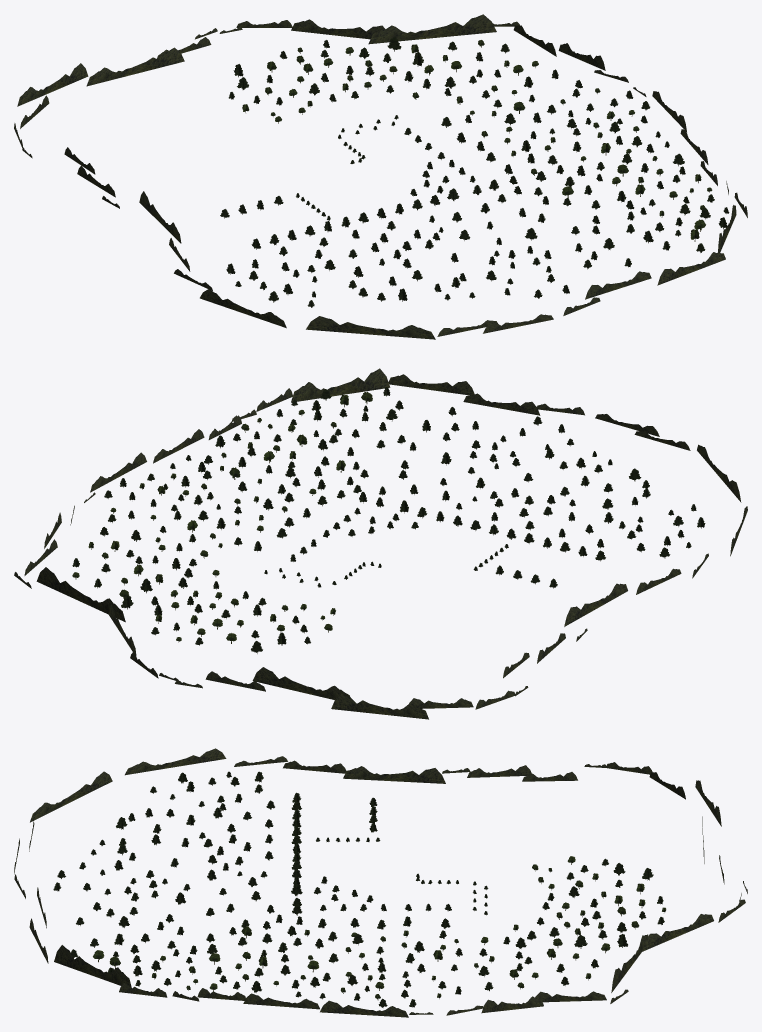
Rendered from tokyo_track_trees.dae.
3 renders of one model, top to bottom at view 1: azimuth 30°, elevation 25°; view 2: azimuth 150°, elevation 25°; view 3: azimuth 270°, elevation 25°, orthographic. The views are drawn at different scales.
Visible parts, largest first — view 1: tree_wall, tree_02, tree_01; view 2: tree_wall, tree_02, tree_01; view 3: tree_02, tree_wall, tree_01.
Part boxes in pixels (<box>): tree_wall: <box>14,14,747,339</box>; tree_02: <box>220,37,729,307</box>; tree_01: <box>242,40,712,241</box>; tree_wall: <box>14,368,747,719</box>; tree_02: <box>72,387,705,653</box>; tree_01: <box>72,391,372,643</box>; tree_02: <box>53,771,664,1007</box>; tree_wall: <box>14,748,747,1017</box>; tree_01: <box>93,856,666,1000</box>.
Size of the model in its own units: 3061 by 119 by 3669.
Materials: 3 (3 with a texture image).
